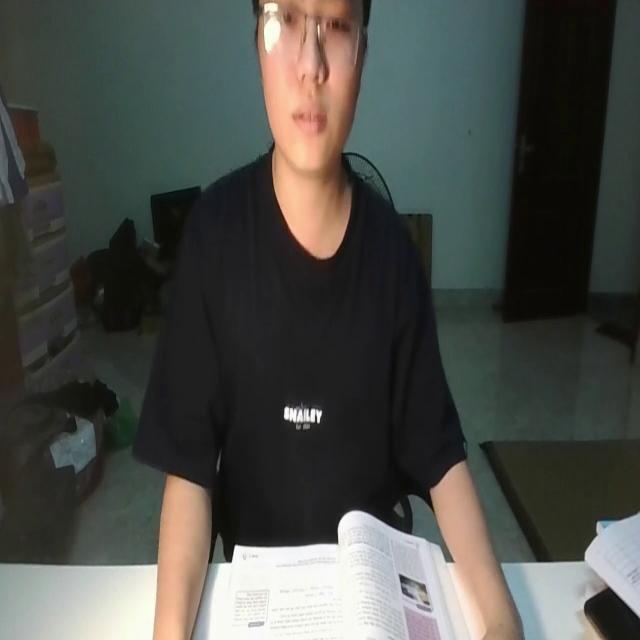book: (229, 508, 470, 640)
student: (141, 0, 524, 640)
